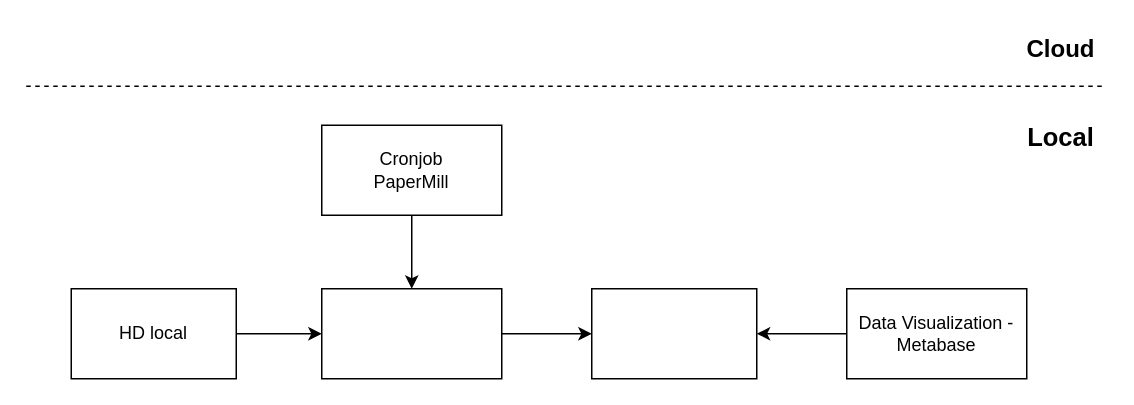
Image size: 1134x405. Some labels were removed from this diagram. The centre of each missing label's shape, as x and y in pixels:
"Bando de dados - SQLite" goes at point (673, 333).
"Jupyter notebook - deploy" goes at point (411, 333).
